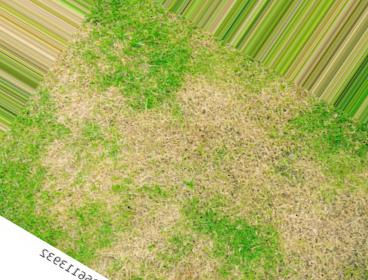patch: (192, 87, 254, 183), (264, 192, 346, 264), (63, 85, 111, 189), (114, 115, 183, 184)
